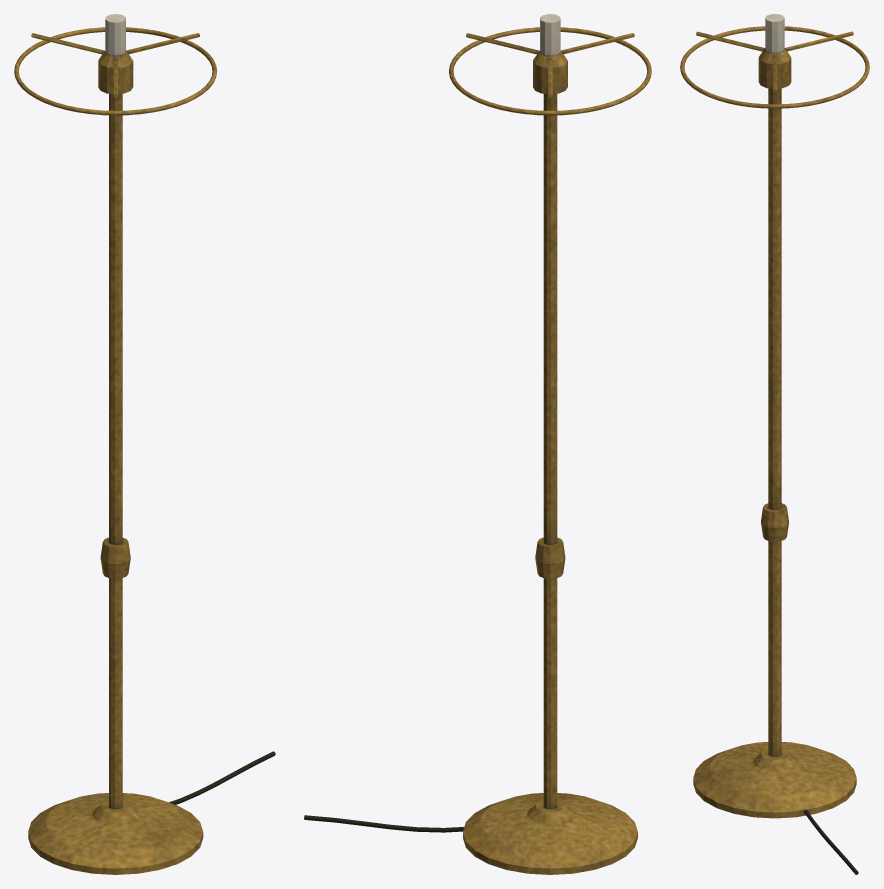
File: wz_lamp.glb
3 renders of one model, left to right at view 1: azimuth 30°, elevation 25°; view 2: azimuth 150°, elevation 25°; view 3: azimuth 270°, elevation 25°, orthographic. The views are drawn at different scales.
Visible parts, largest first — view 1: wz_lamp; view 2: wz_lamp; view 3: wz_lamp.
Part boxes in pixels (x1,y1,x2,y2): wz_lamp: (14, 14, 275, 874); wz_lamp: (304, 14, 651, 874); wz_lamp: (680, 14, 869, 874).
Size of the model in its own units: 0.5753 by 1.55 by 0.348.
Materials: 1 (1 with a texture image).
